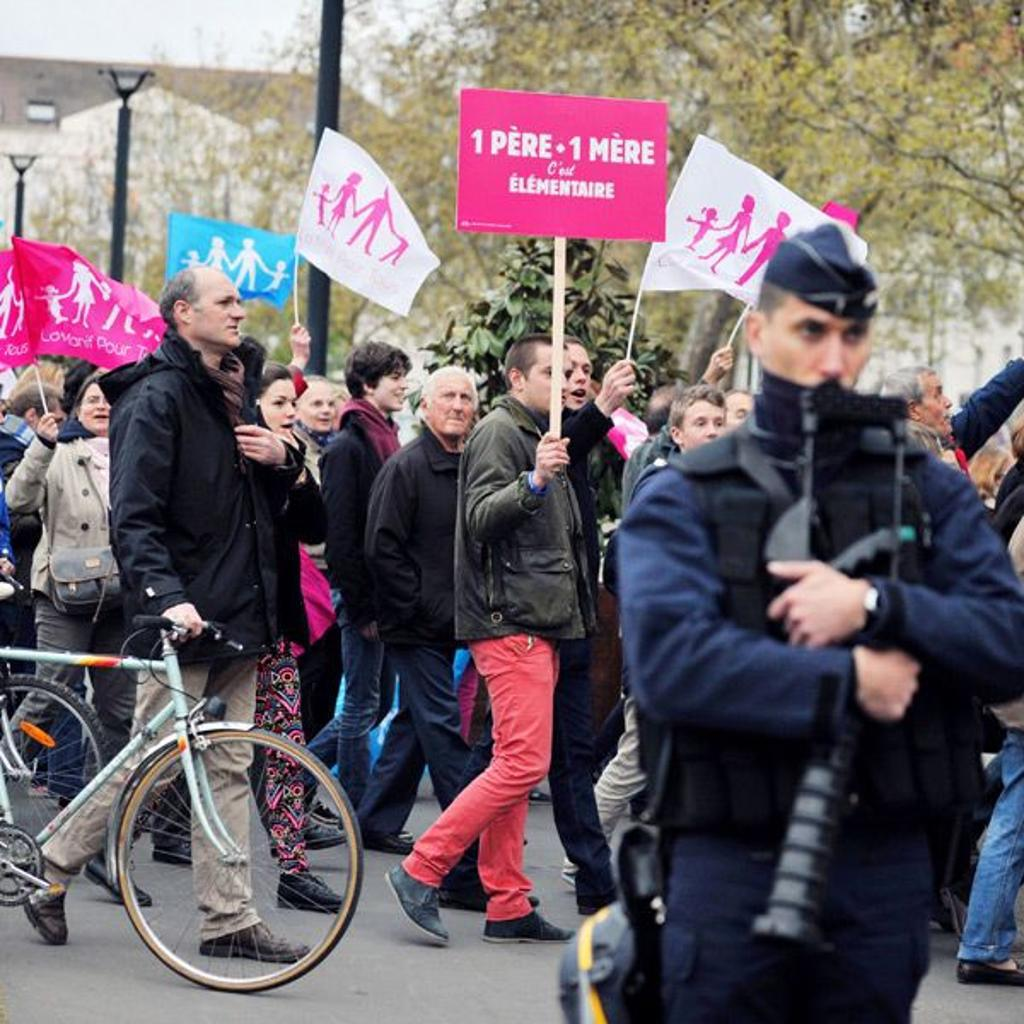face: (765, 302, 871, 413), (193, 285, 245, 347), (525, 350, 573, 412), (548, 352, 593, 410), (433, 382, 475, 435), (724, 400, 762, 456), (684, 408, 724, 458), (261, 385, 297, 435), (920, 381, 952, 434), (374, 365, 409, 411), (298, 392, 335, 432), (36, 406, 66, 452), (81, 386, 111, 431)
